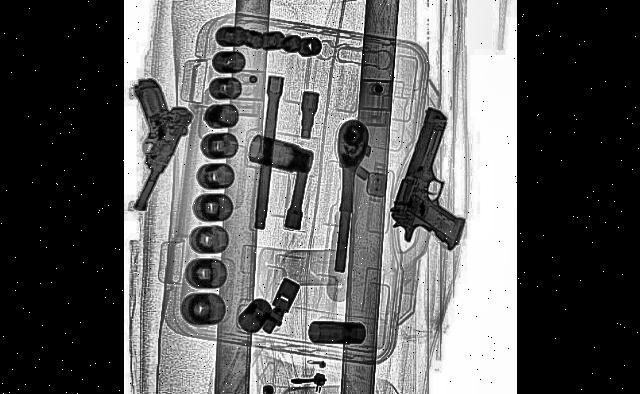Gun: (386, 97, 484, 281), (124, 75, 190, 221)
